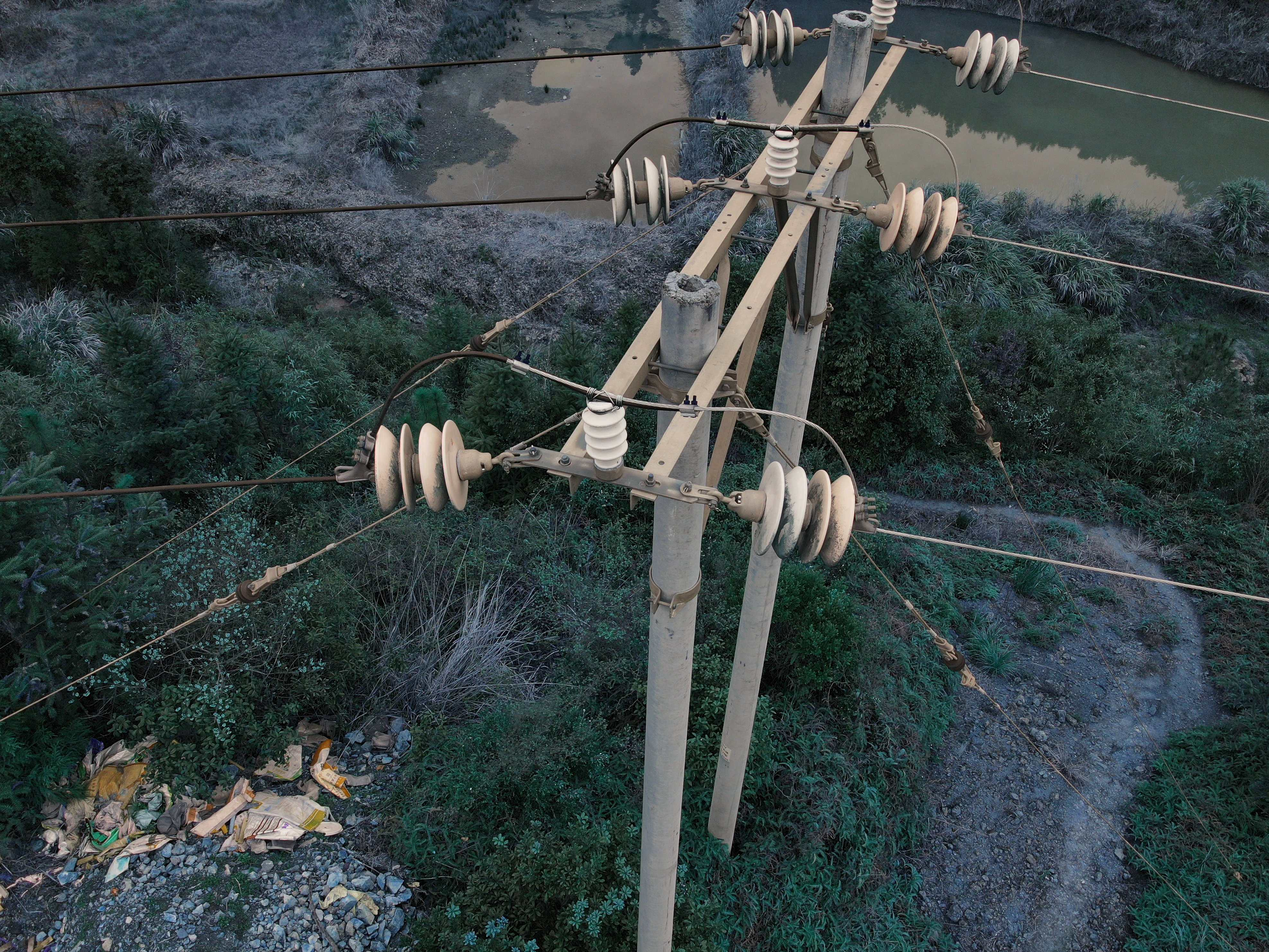severe_soiling_no_discharge_whole: (735, 463, 861, 567), (373, 418, 489, 516), (866, 179, 965, 264), (601, 148, 695, 230), (946, 30, 1023, 95), (738, 8, 805, 67)
